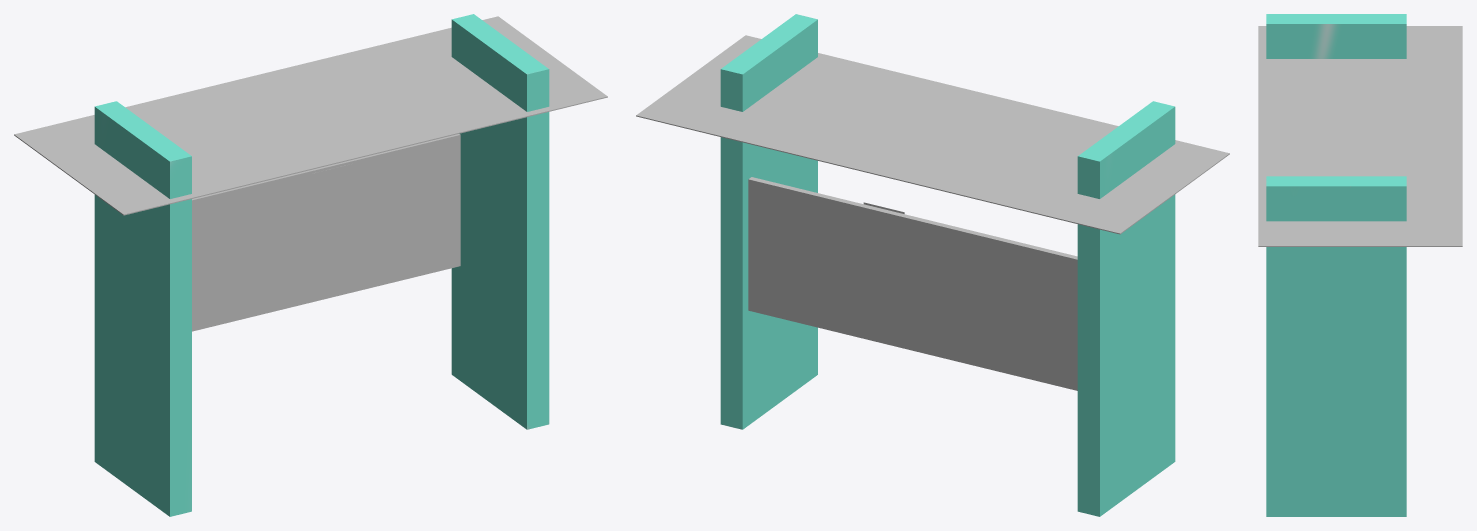
Rendered from Leveltest.glb.
3 renders of one model, left to right at view 1: azimuth 30°, elevation 25°; view 2: azimuth 150°, elevation 25°; view 3: azimuth 270°, elevation 25°, orthographic. The views are drawn at different scales.
Visible parts, largest first — view 1: Cube, Cube.001, Cube.002; view 2: Cube, Cube.001, Cube.002; view 3: Cube.002, Cube, Cube.001.
Boxes of the visible parts, x1,y1,x2,y2 form: Cube: (14, 16, 607, 331); Cube.001: (94, 101, 191, 516); Cube.002: (451, 14, 549, 429); Cube: (636, 35, 1229, 390); Cube.001: (1077, 101, 1175, 516); Cube.002: (720, 14, 817, 429); Cube.002: (1266, 176, 1406, 516); Cube: (1258, 26, 1462, 246); Cube.001: (1266, 14, 1406, 58).
Size of the model in its own units: 479 by 336 by 188.
3 materials, 3 textured.
